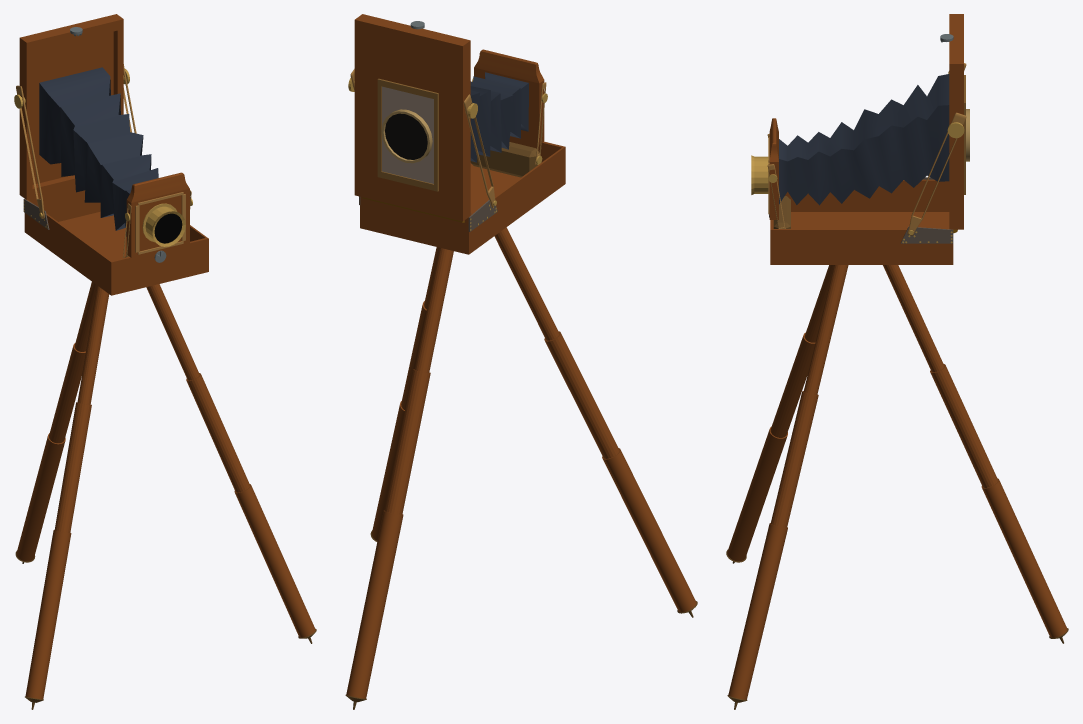
The model's file is Cam.fbx.
3 views of the same model, side by side, from view 1: azimuth 30°, elevation 25°; view 2: azimuth 150°, elevation 25°; view 3: azimuth 270°, elevation 25° (orthographic). The views are drawn at different scales.
Visible parts, largest first — view 1: pCube19; view 2: pCube19; view 3: pCube19.
Part boxes in pixels (left/top/right/bottom): pCube19: left=14, top=14, right=316, bottom=709; pCube19: left=345, top=14, right=697, bottom=709; pCube19: left=726, top=14, right=1068, bottom=709.
Bounding box in the file's own units: 21.59 × 40.89 × 20.94.
